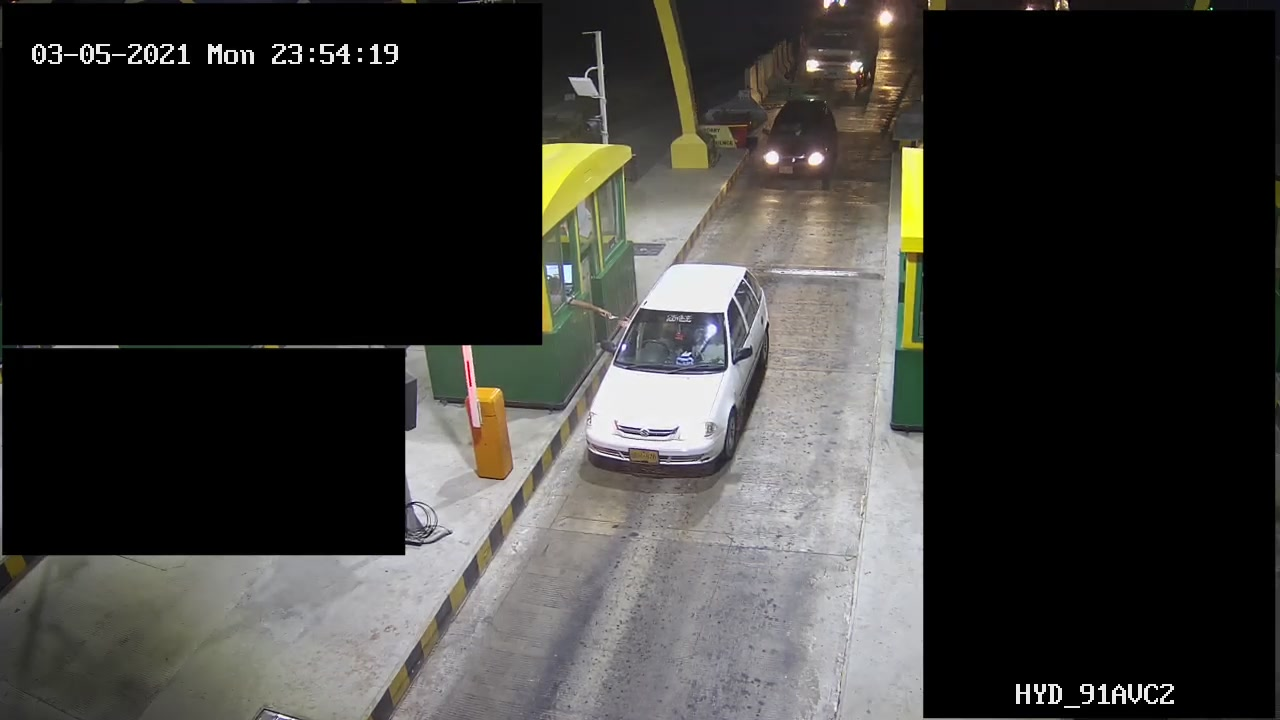F1: (578, 262, 778, 477), (763, 96, 839, 187)
